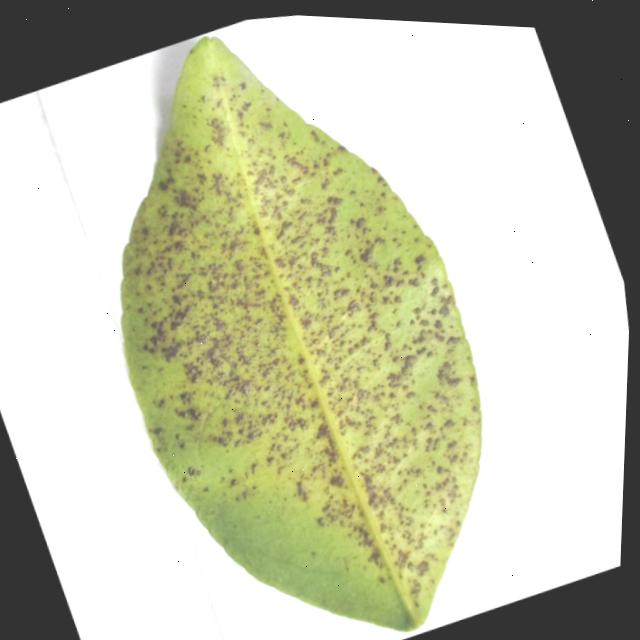melanose: (120, 38, 481, 631)
